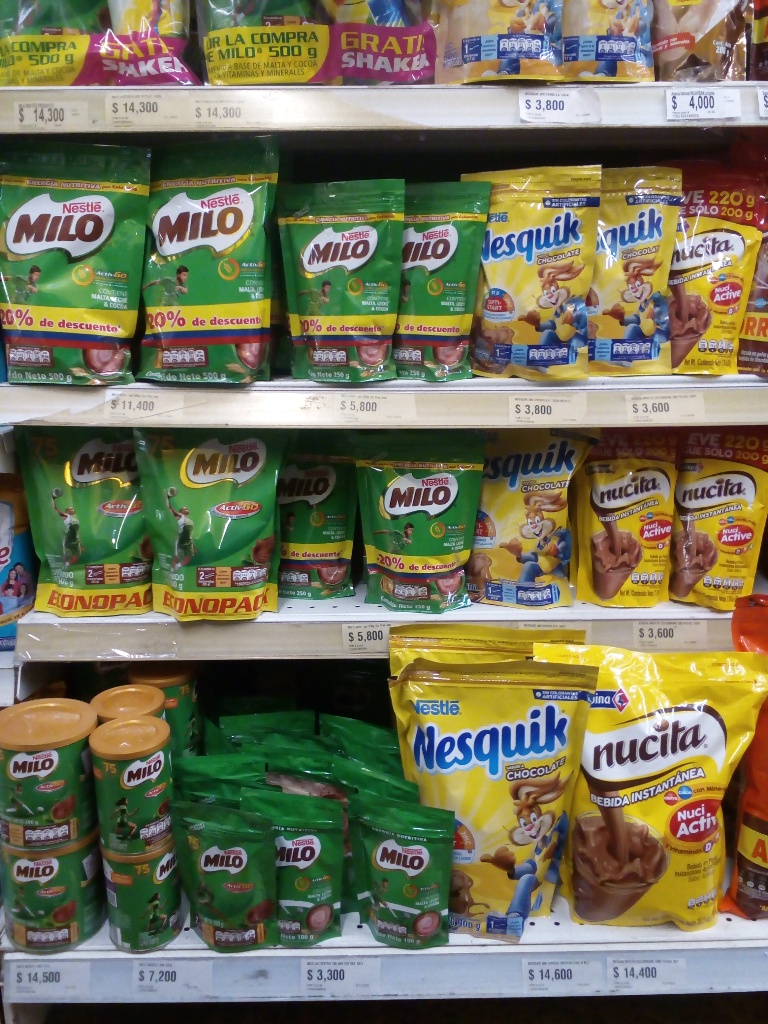COL0170203DYP10000: (355, 807, 454, 946)
COL0170203LAT20000: (104, 852, 184, 958)
COL0170203LAT40000: (2, 699, 94, 850)
COL0170303DYP20000: (481, 160, 604, 379)
